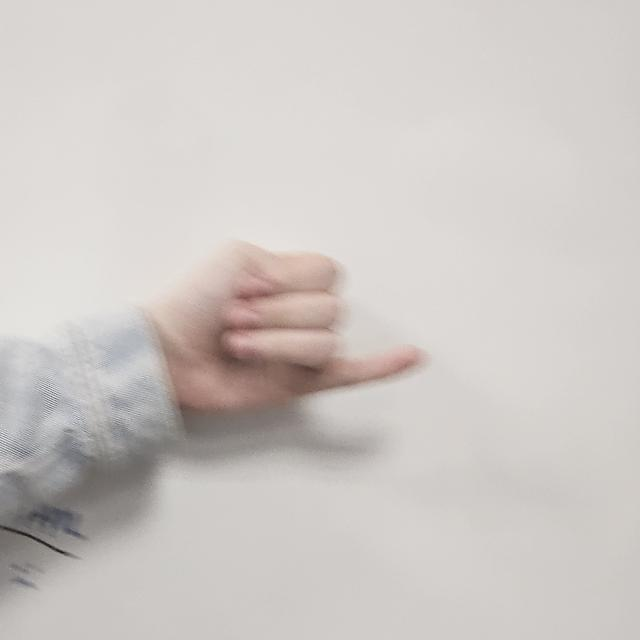Esquerda: (122, 190, 442, 462)
